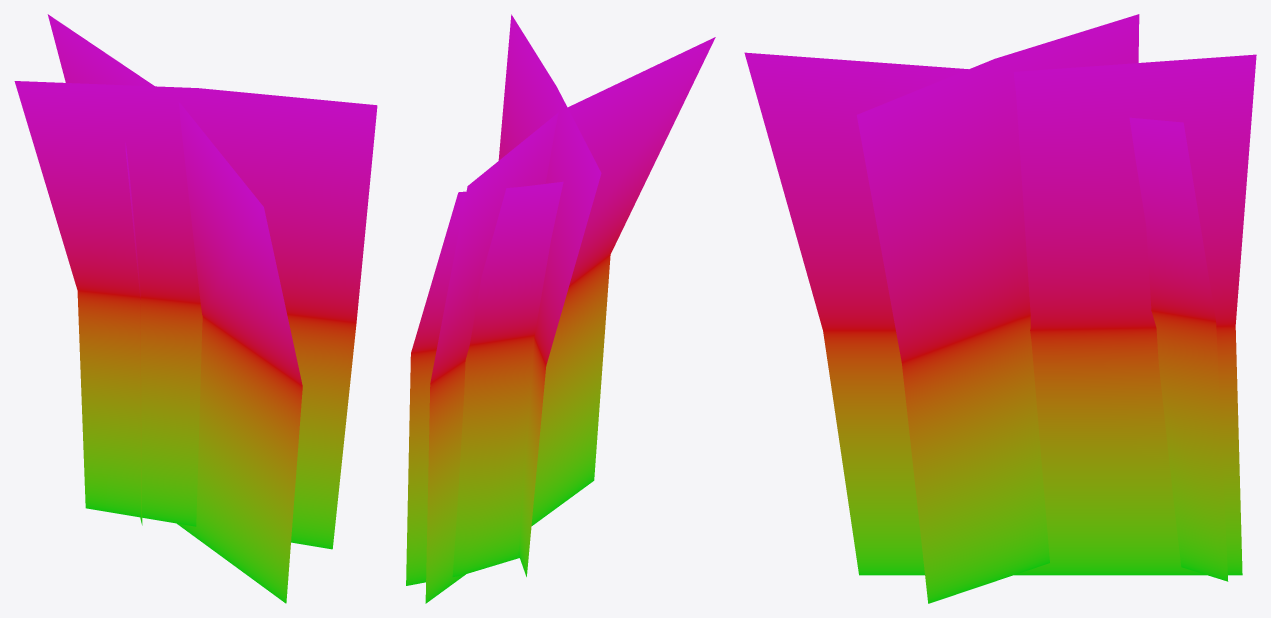
File: Grass_01.fbx
The picture shows the model from 3 angles, left to right: view 1: azimuth 30°, elevation 25°; view 2: azimuth 150°, elevation 25°; view 3: azimuth 270°, elevation 25°; orthographic projection. The views are drawn at different scales.
Visible parts, largest first — view 1: Grass_10; view 2: Grass_10; view 3: Grass_10.
Boxes of the visible parts, bbox=[...] form: Grass_10: bbox=[14, 14, 377, 603]; Grass_10: bbox=[406, 14, 715, 603]; Grass_10: bbox=[744, 14, 1256, 603].
Size of the model in its own units: 0.4862 by 0.964 by 0.8828.
